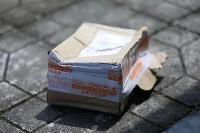undamaged: (43, 19, 169, 115)
